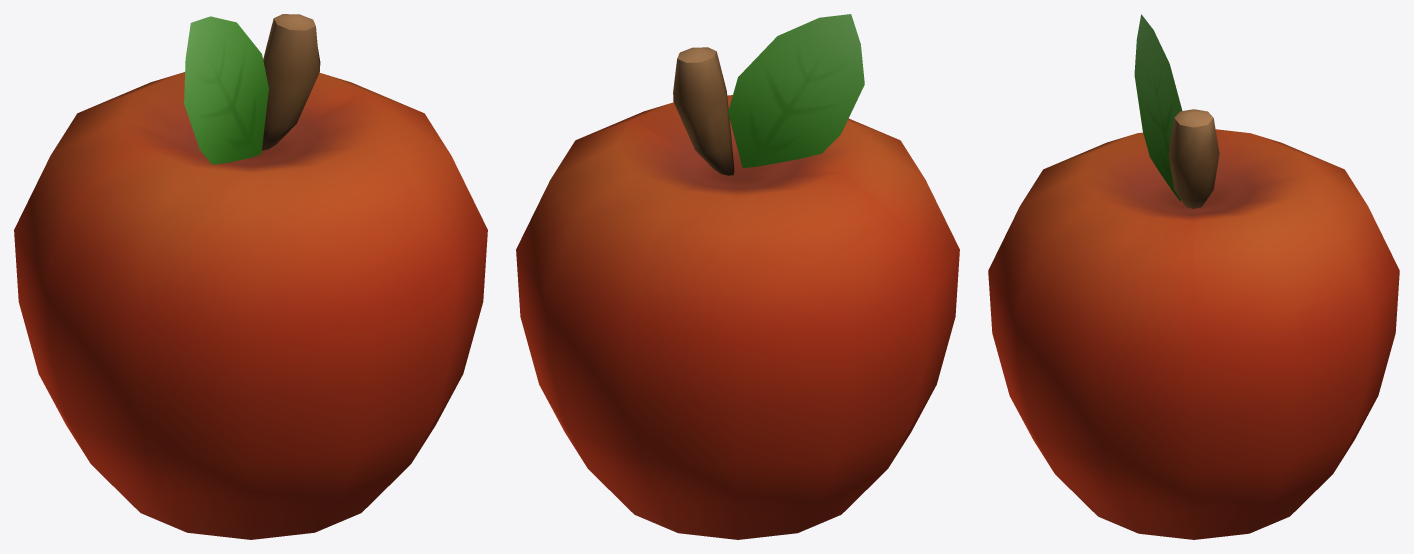
The model's file is Mimic_Mayhem_Apple.FBX.
3 views of the same model, side by side, from view 1: azimuth 30°, elevation 25°; view 2: azimuth 150°, elevation 25°; view 3: azimuth 270°, elevation 25° (orthographic). The views are drawn at different scales.
Visible parts, largest first — view 1: Cylinder001; view 2: Cylinder001; view 3: Cylinder001.
Part boxes in pixels (x1,y1,x2,y2): Cylinder001: [14, 14, 487, 539]; Cylinder001: [516, 14, 959, 539]; Cylinder001: [988, 14, 1399, 539].
Bounding box in the file's own units: 3.79 × 4.48 × 3.79.
